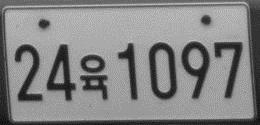0: (147, 41, 179, 100)
1: (112, 41, 146, 101)
2: (12, 41, 44, 102)
4: (45, 43, 77, 102)
7: (212, 39, 245, 99)
9: (178, 38, 211, 100)
육: (78, 53, 110, 101)
